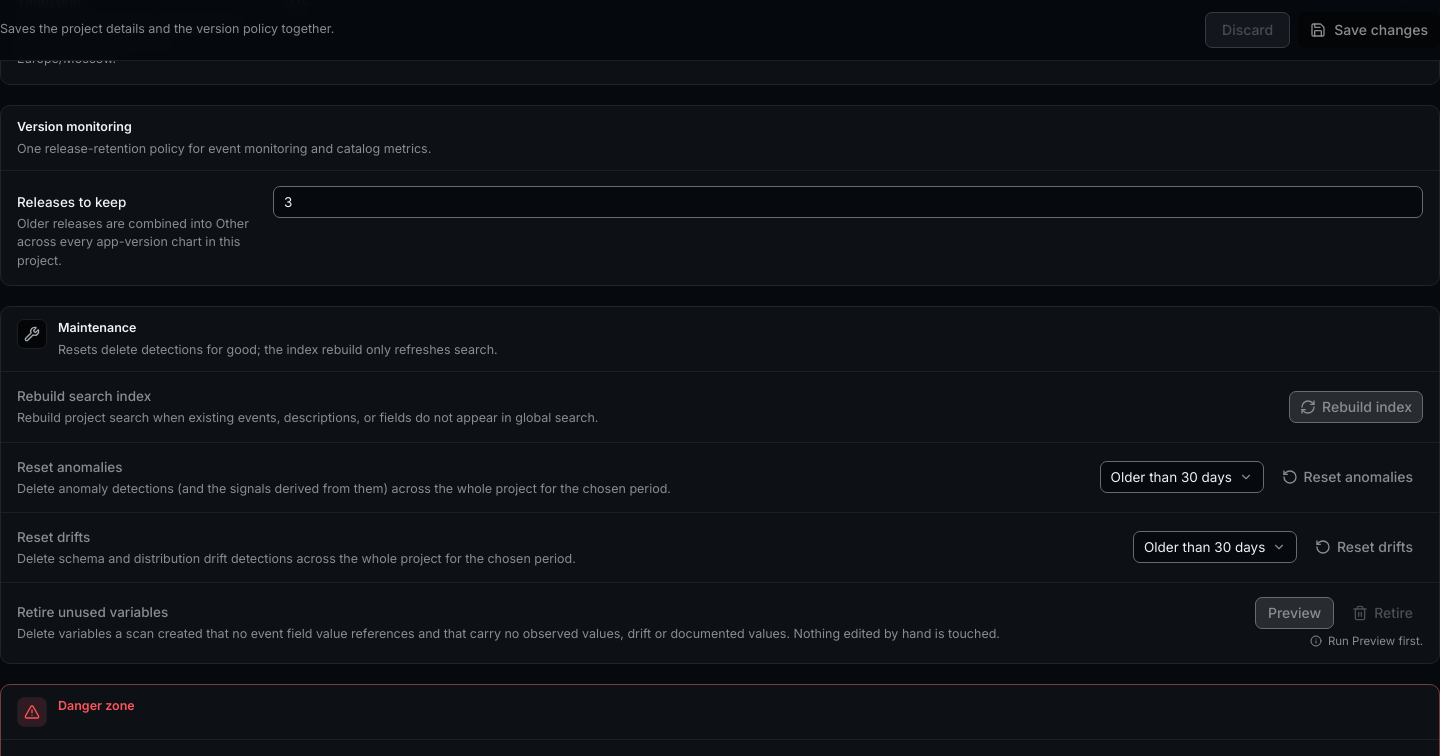
Scenario: ProjectGeneralSection › resets anomalies with the chosen period after confirmation
(page scrolled)
# Pick "Older than 7 days" (not the 30-day default) to prove the period ships.
Select "Older than 7 days" in the dropdown named "Reset anomalies period" at coordinates (1182, 477), box left=1100, top=461, right=1264, bottom=493
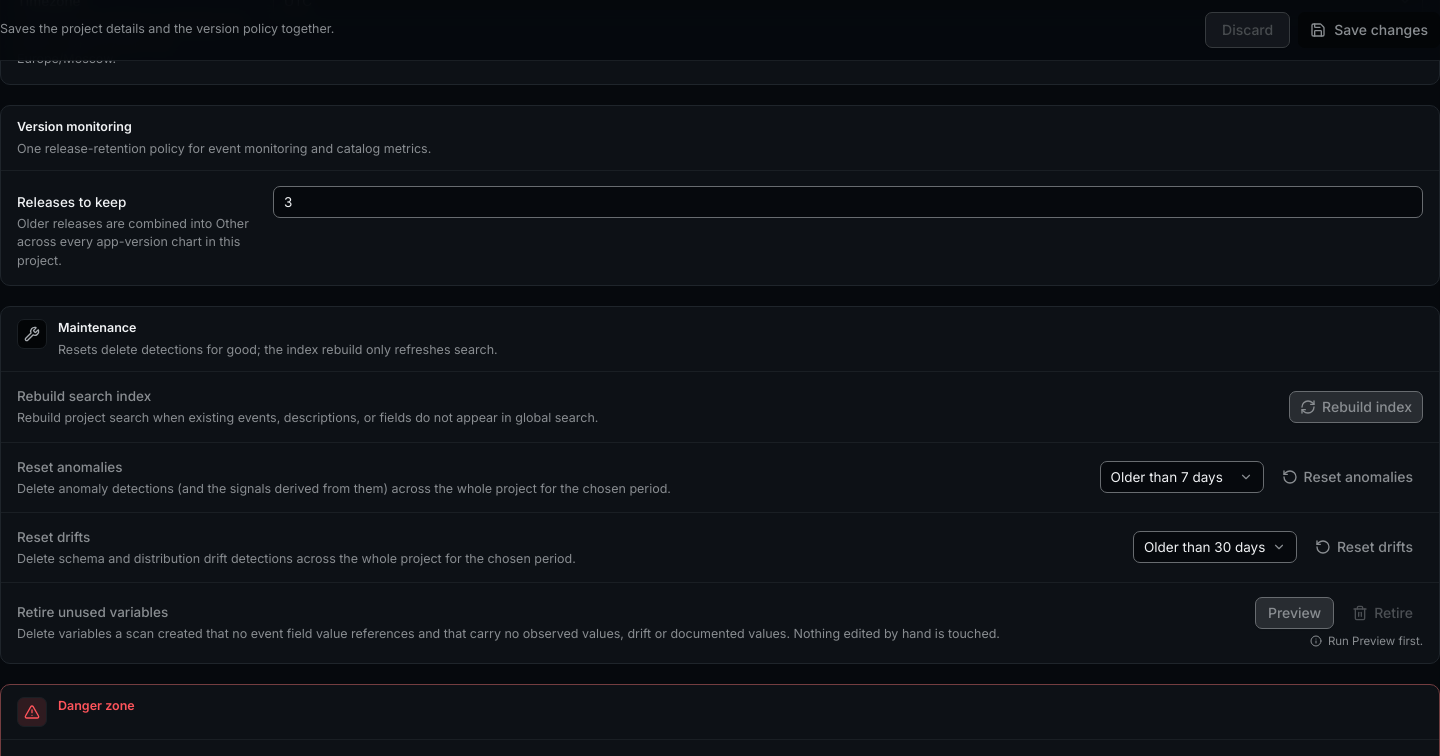
Click the button "Reset anomalies" at coordinates (1347, 477), box left=1272, top=461, right=1423, bottom=493
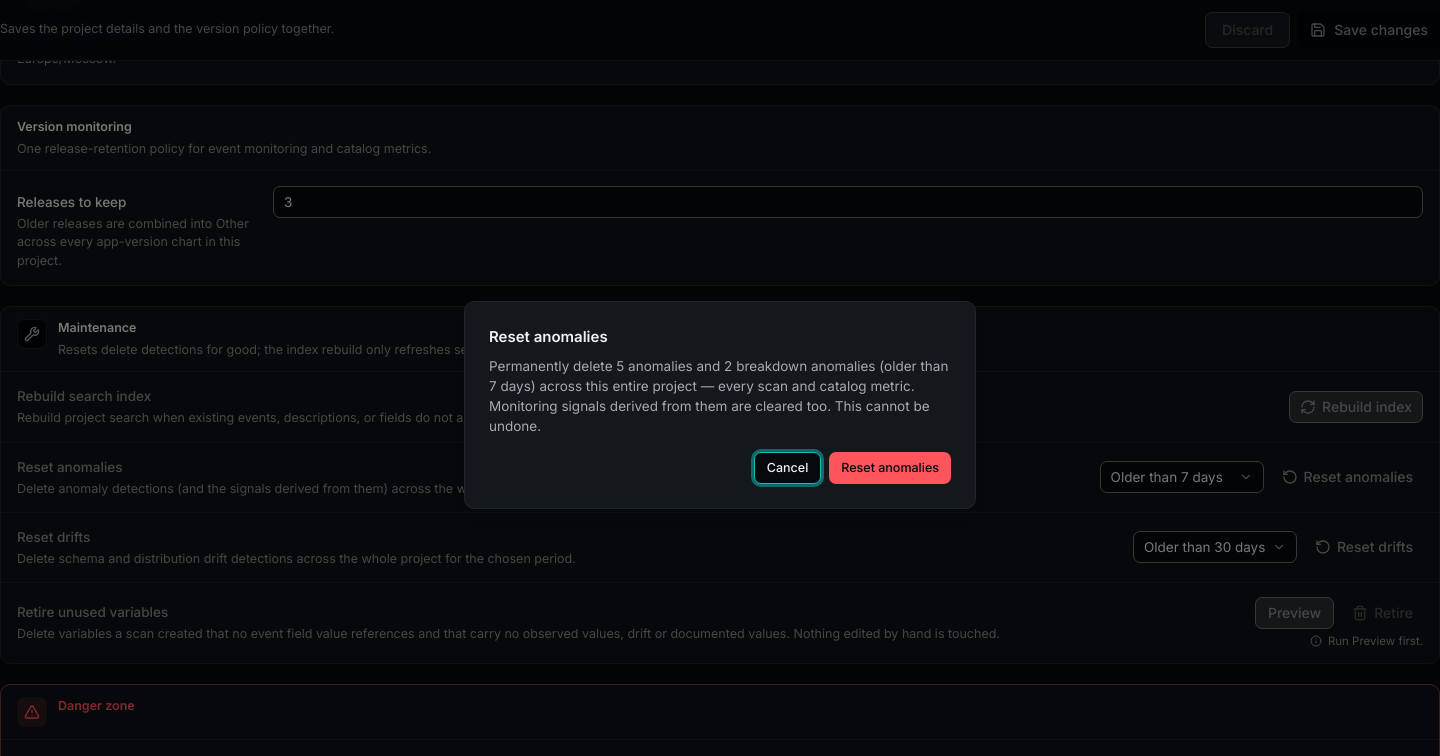
Result: the dialog shows "Permanently delete 5 anomalies and 2 breakdown anomalies (older than 7 days)" at left=489, top=358, right=948, bottom=434
Click the button "Reset anomalies" at coordinates (890, 468), box left=829, top=452, right=951, bottom=484
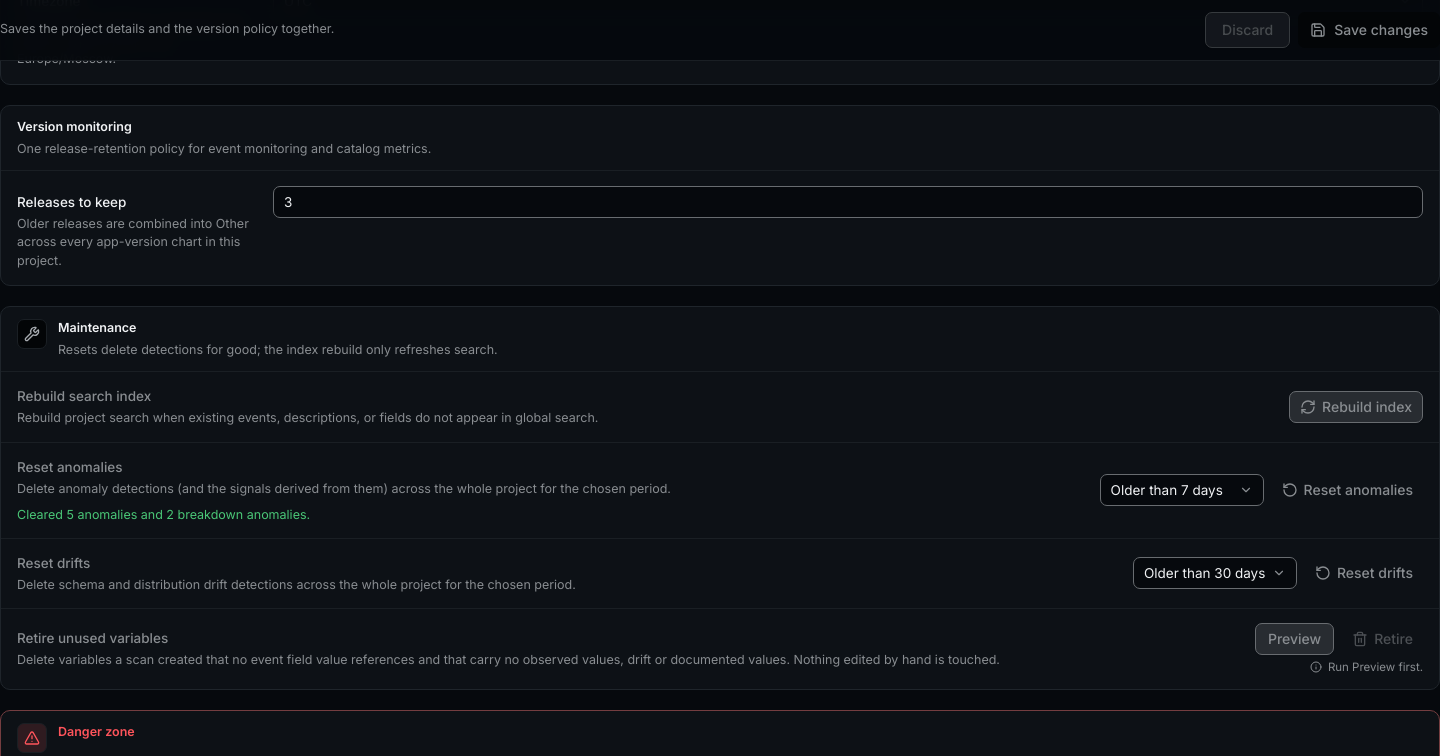
Result: the text "Cleared 5 anomalies and 2 breakdown anomalies." is shown at left=17, top=507, right=310, bottom=522
